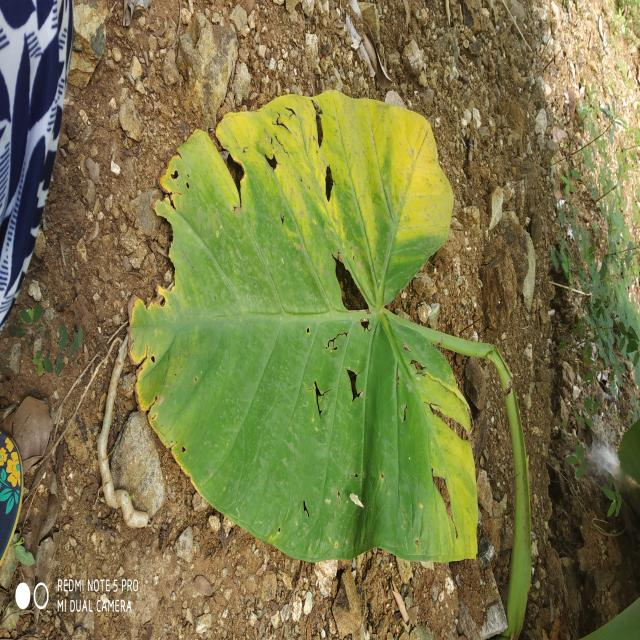disease in leaf: (130, 91, 478, 560)
taro: (130, 91, 478, 562)
